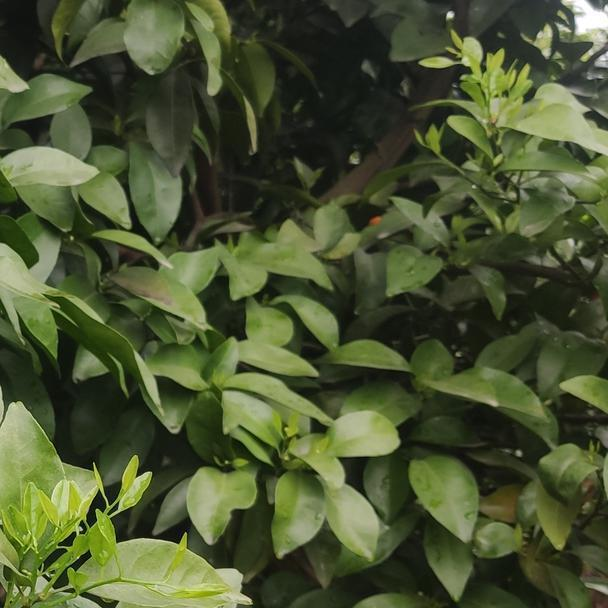shoot: (52, 464, 151, 581), (79, 545, 231, 604)
